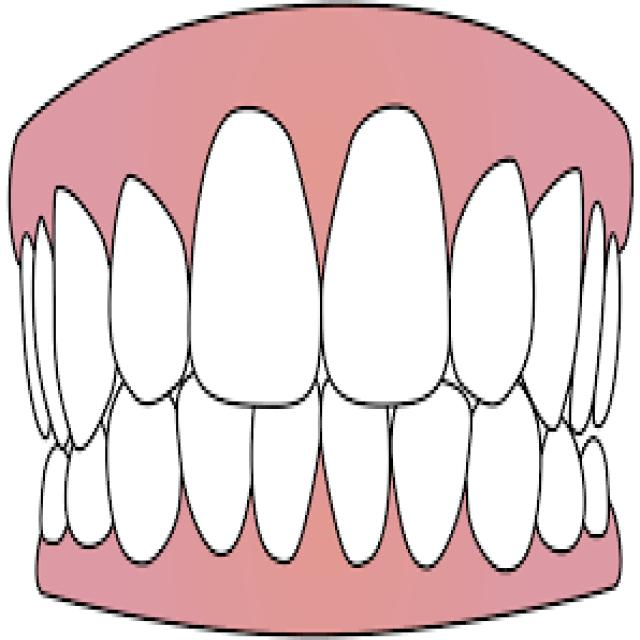tooth: (193, 102, 322, 405), (341, 106, 449, 394), (458, 125, 530, 394), (120, 182, 189, 409), (49, 189, 114, 428), (180, 379, 260, 572), (322, 379, 391, 579), (400, 383, 468, 568), (481, 398, 539, 590), (539, 156, 578, 440), (116, 386, 178, 564), (264, 386, 318, 557), (17, 220, 58, 439), (546, 424, 586, 568), (71, 443, 107, 557), (591, 428, 614, 545), (39, 454, 64, 538)
